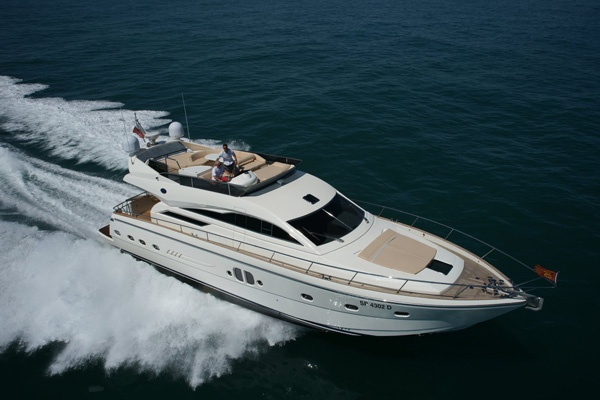yacht: (91, 103, 560, 341)
